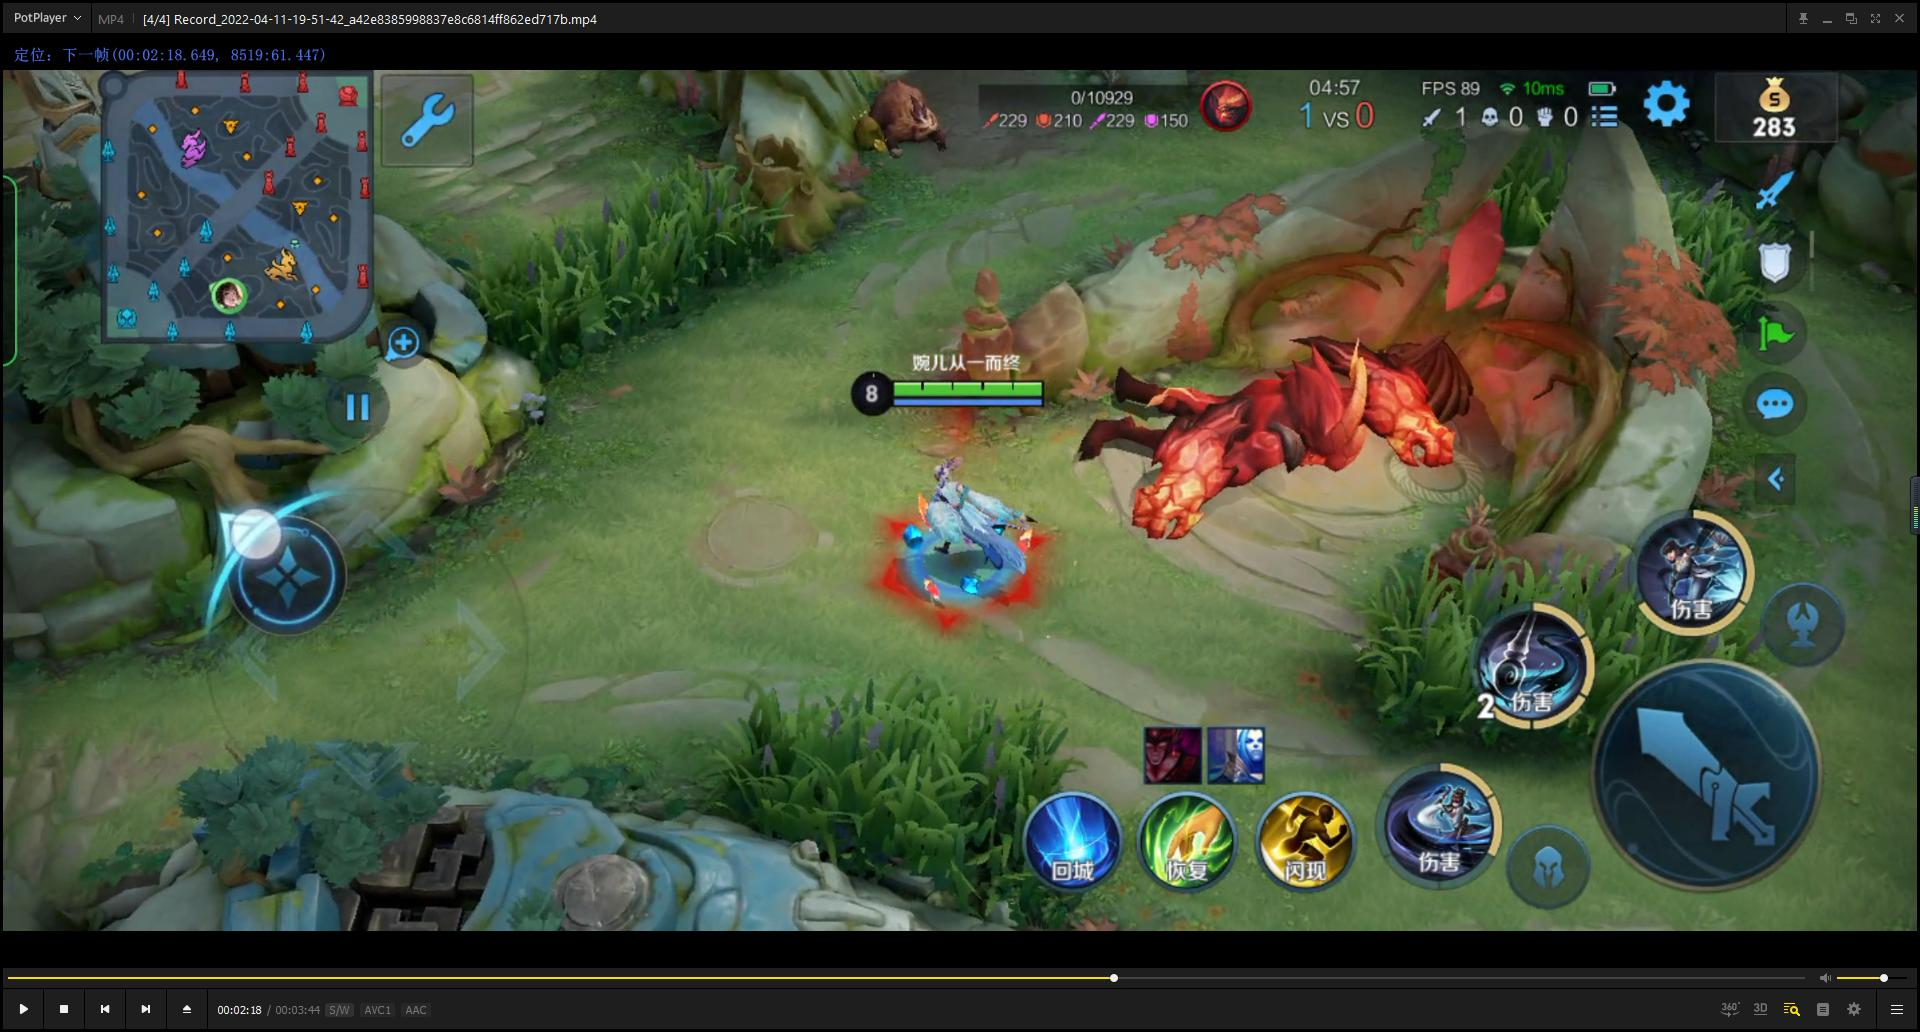Buff: (1051, 308, 1469, 580)
Hero: (845, 444, 1090, 623)
Pig: (831, 78, 968, 149)
